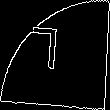L_S: (38, 29, 72, 81)
